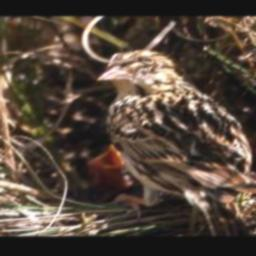Sparrow: (93, 49, 256, 235)
